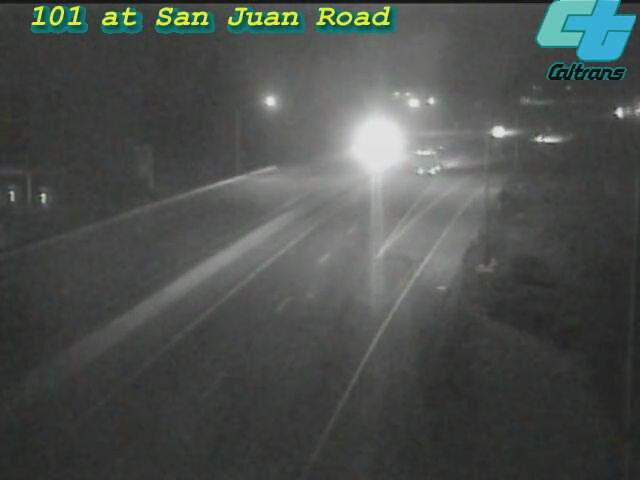vehicle: (348, 120, 398, 170), (480, 106, 530, 156), (520, 114, 570, 164), (415, 129, 465, 179), (595, 87, 640, 137)
